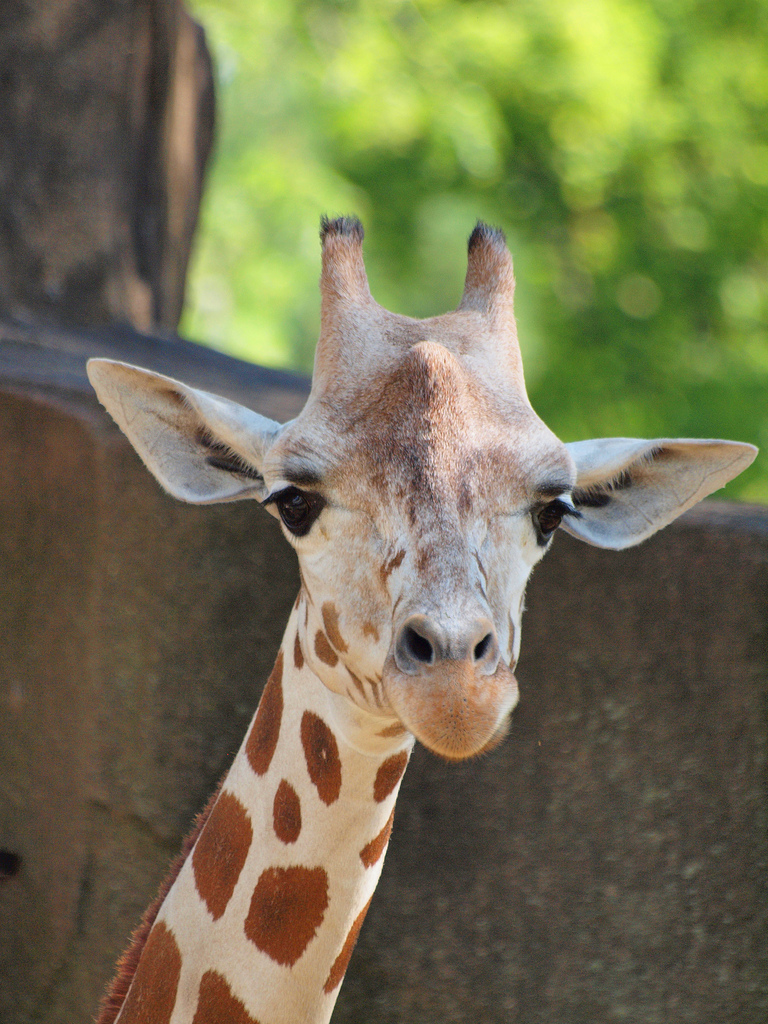giraffe: (75, 219, 752, 977)
